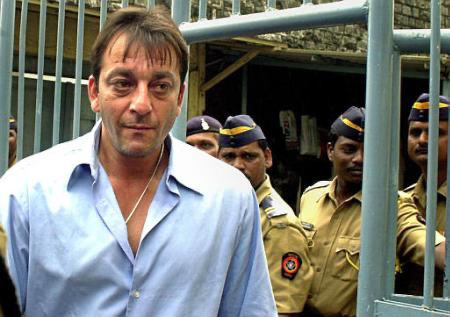Face: (96, 46, 179, 159), (333, 127, 376, 189), (215, 139, 265, 192), (406, 119, 450, 171), (184, 131, 223, 162)
